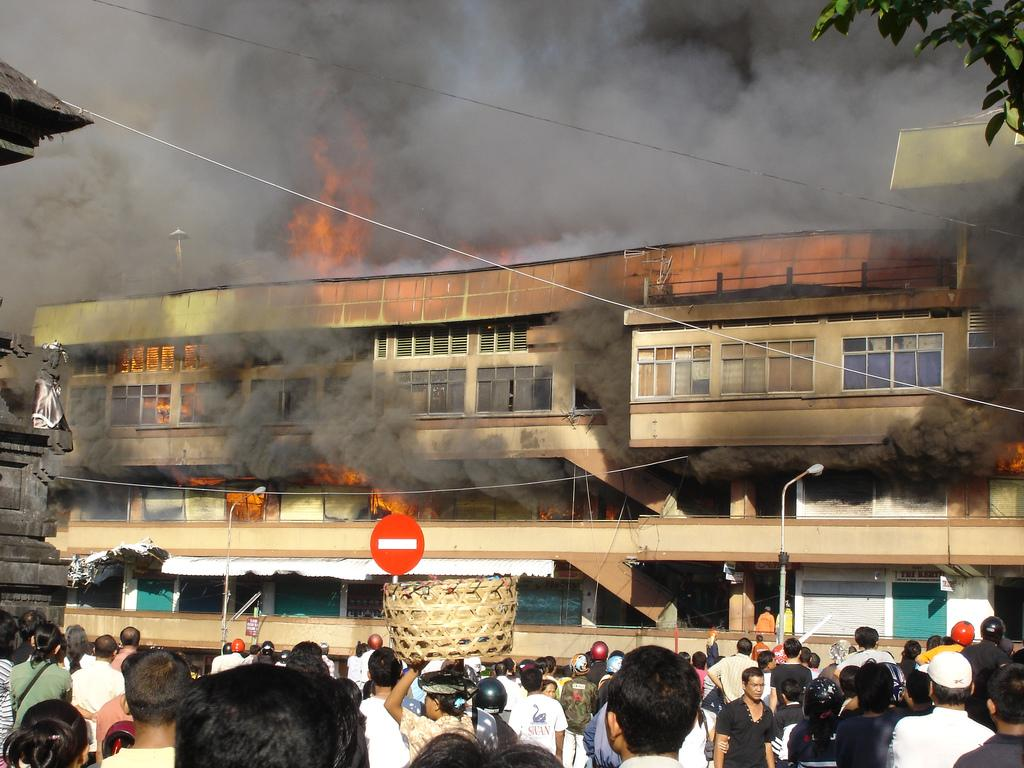fire: (292, 142, 380, 268), (116, 340, 194, 376), (990, 430, 1024, 482), (358, 480, 410, 512), (300, 458, 346, 486), (230, 476, 258, 520)
smoke: (428, 78, 888, 214), (28, 156, 230, 302)
